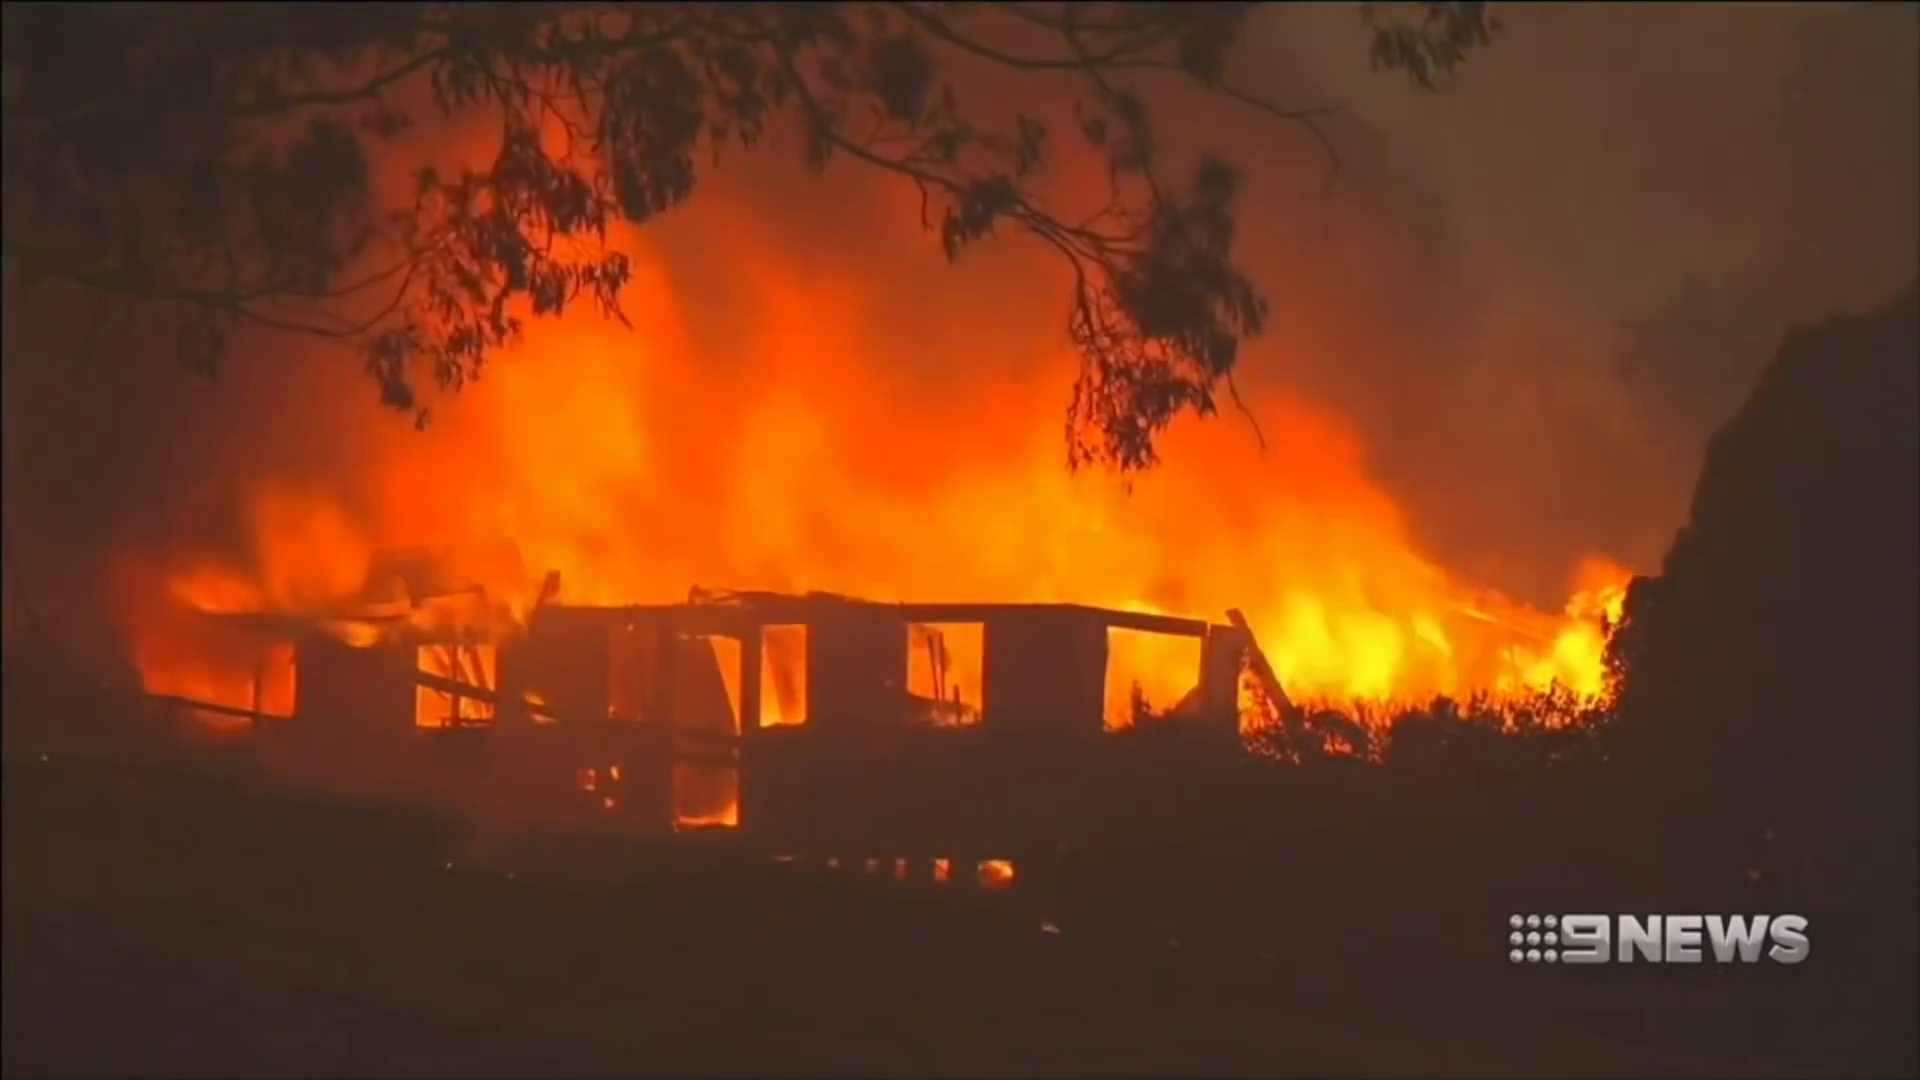fire: (1542, 640, 1606, 694), (1607, 589, 1625, 618)
